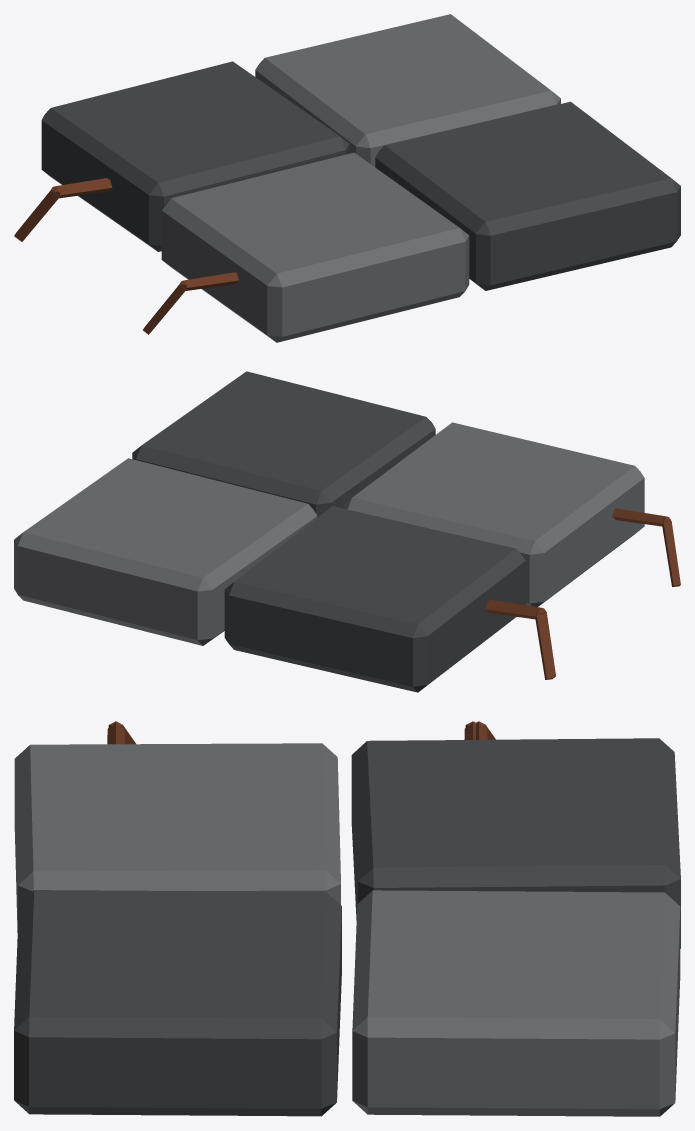
Rendered from slab.glb.
3 renders of one model, top to bottom at view 1: azimuth 30°, elevation 25°; view 2: azimuth 150°, elevation 25°; view 3: azimuth 270°, elevation 25°, orthographic. The views are drawn at different scales.
Parts seen in each view (by area): view 1: Slab; view 2: Slab; view 3: Slab.
Part boxes in pixels (x1,y1,x2,y2): Slab: [14, 14, 680, 342]; Slab: [14, 371, 680, 692]; Slab: [14, 721, 680, 1116].
Size of the model in its own units: 1.05 by 0.1493 by 0.8672.
